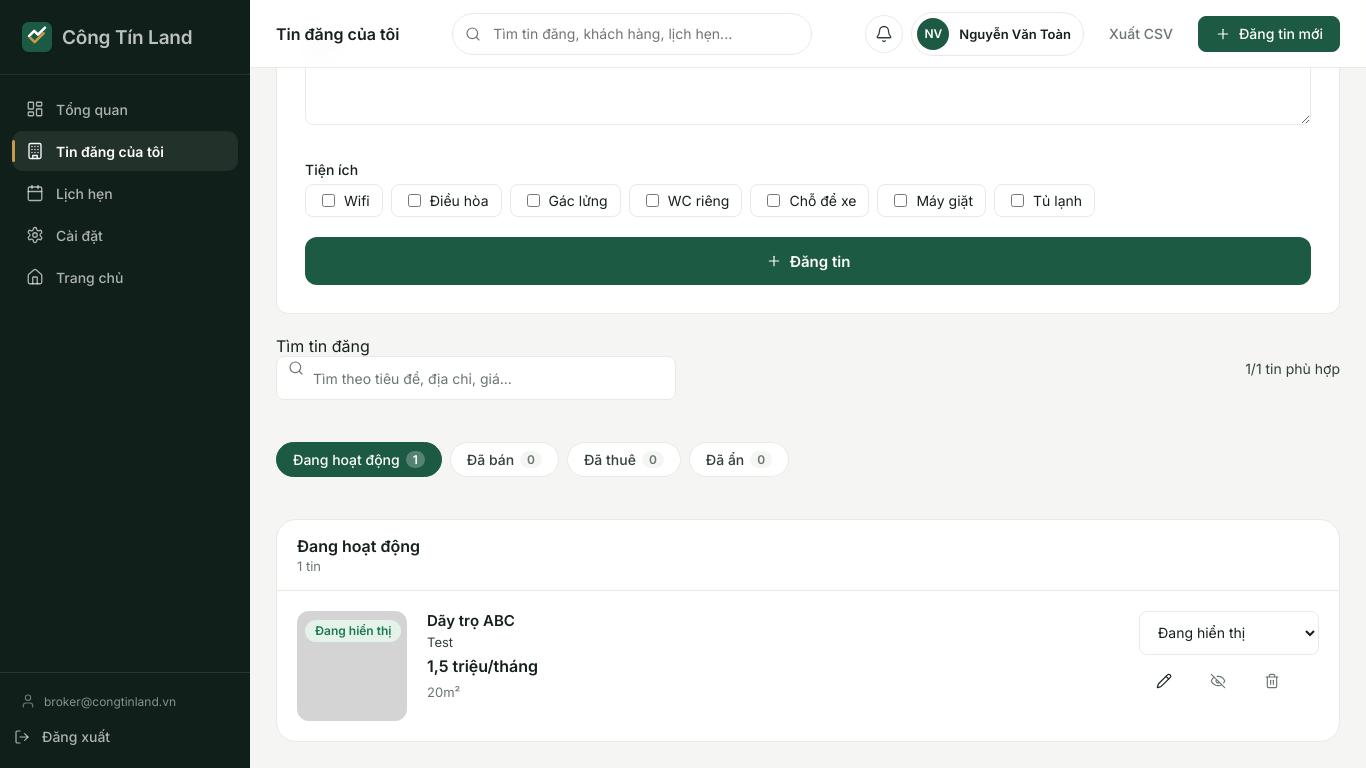
Test case: Listing form — room list (dãy trọ) › editing an existing tro listing prefills room rows
(page scrolled)
What coordinates should you click on to do the following:
click the button named "Chỉnh sửa tin"
I would click on:
 (1164, 681)
Its box is [1139,663,1189,699].
(page scrolled)
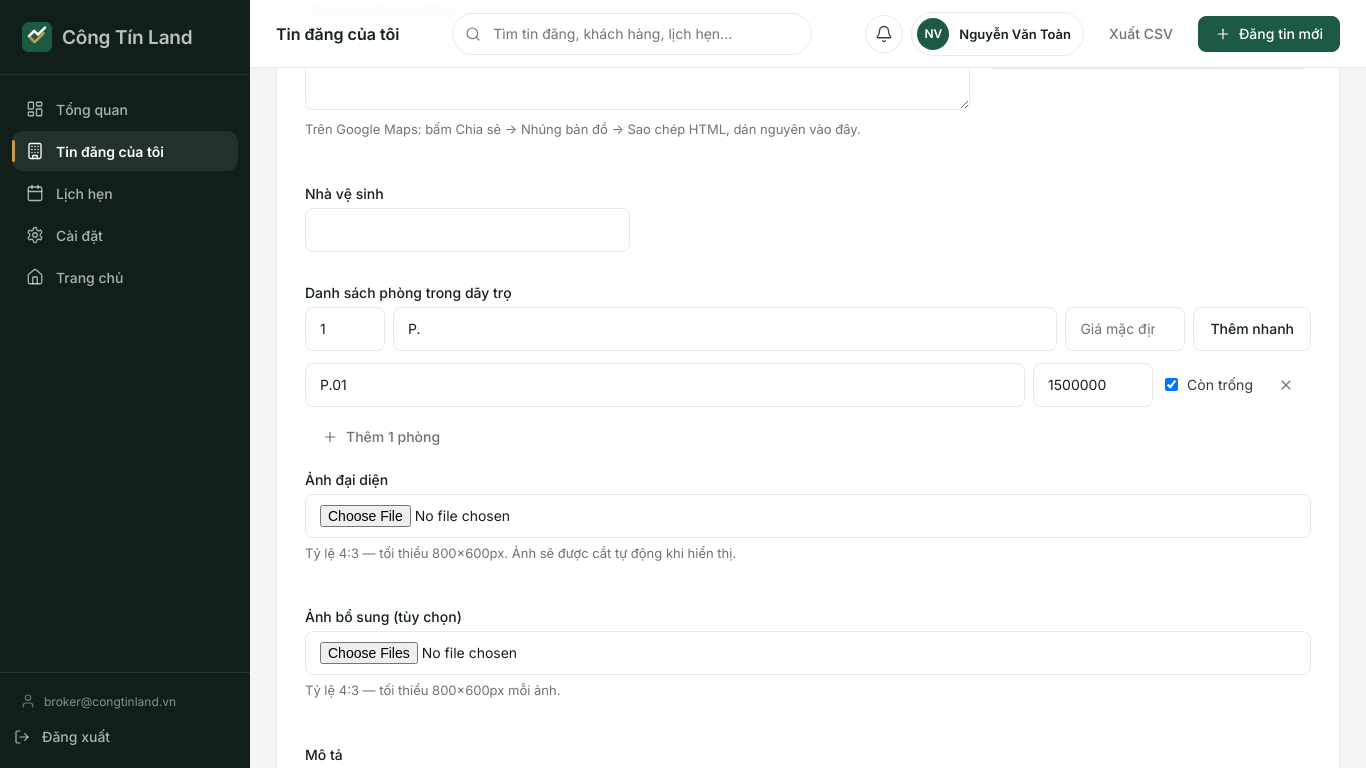
expect the field named "Tên phòng 1" holds "P.01": met, box [305,362,1025,406]
expect the number field named "Giá phòng 1" holds "1500000": met, box [1033,362,1153,406]
